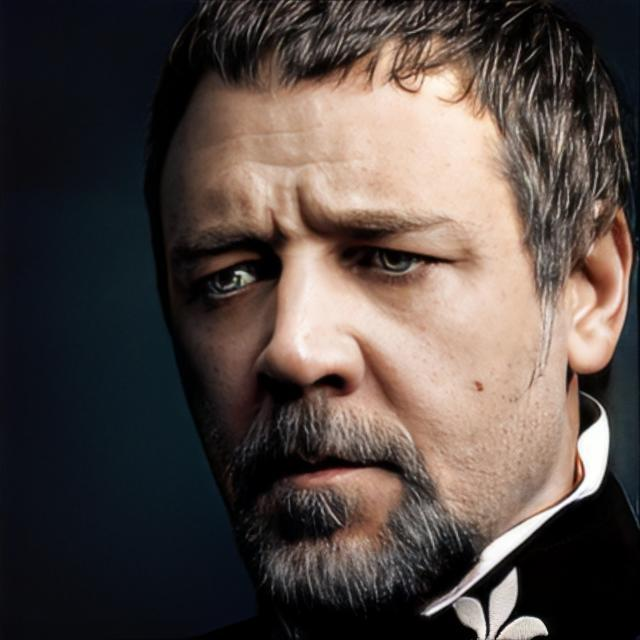anger: (154, 58, 566, 614)
